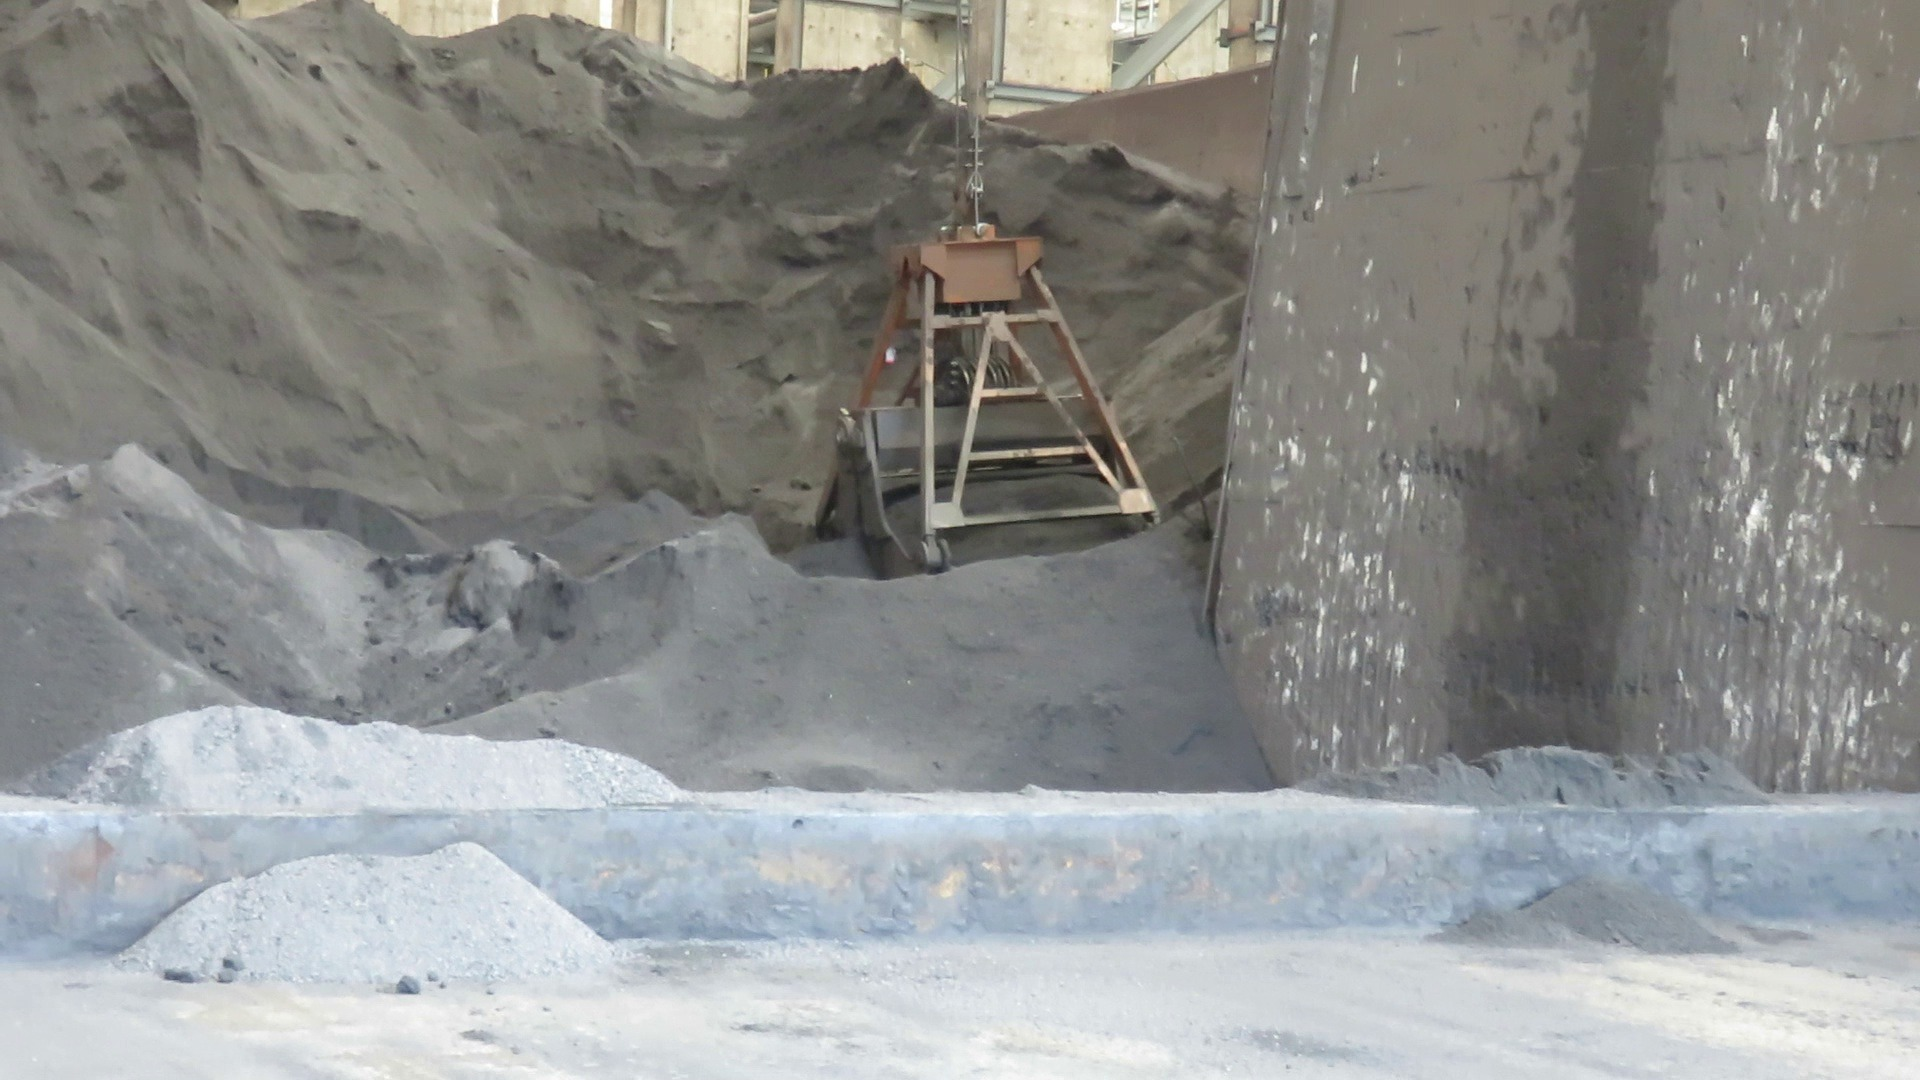grab: (804, 207, 1168, 582)
